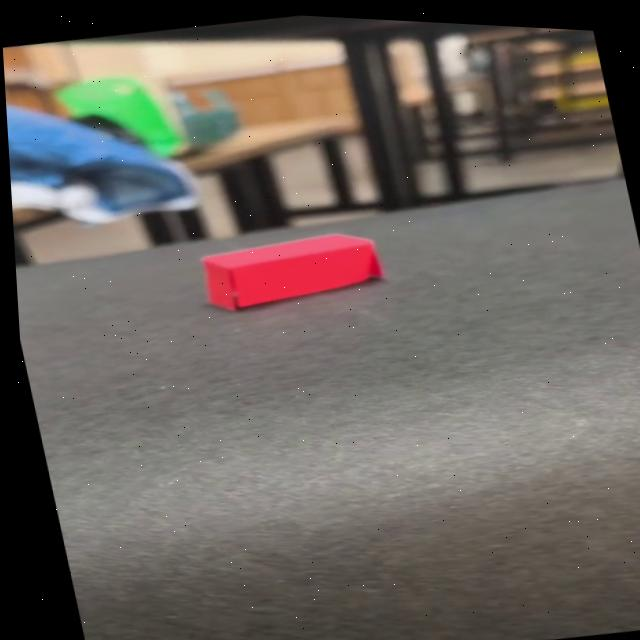red block: (192, 218, 388, 322)
